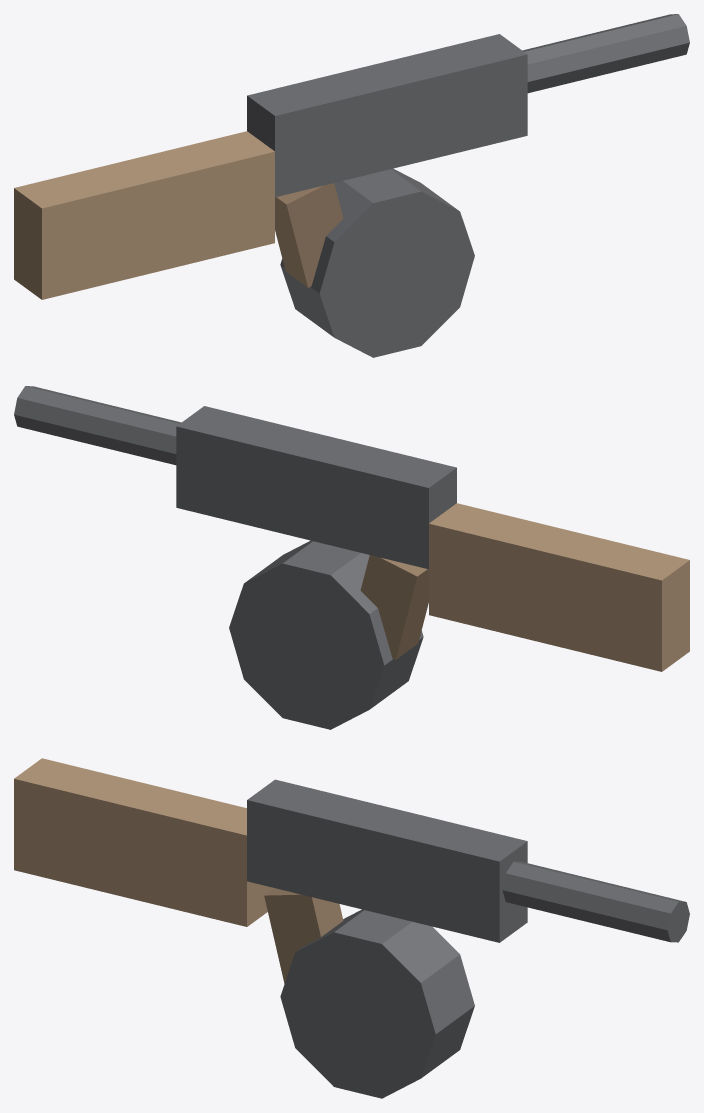
Rendered from held_weapon_ppsh.glb.
The picture shows the model from 3 angles, top to bottom: view 1: azimuth 30°, elevation 25°; view 2: azimuth 150°, elevation 25°; view 3: azimuth 330°, elevation 25°; orthographic projection.
Visible parts, largest first — view 1: held_weapon_ppsh; view 2: held_weapon_ppsh; view 3: held_weapon_ppsh.
Boxes of the visible parts, bbox=[...] form: held_weapon_ppsh: bbox=[14, 14, 689, 357]; held_weapon_ppsh: bbox=[14, 386, 689, 729]; held_weapon_ppsh: bbox=[14, 758, 689, 1098].
Size of the model in its own units: 0.67 by 0.2561 by 0.07.
